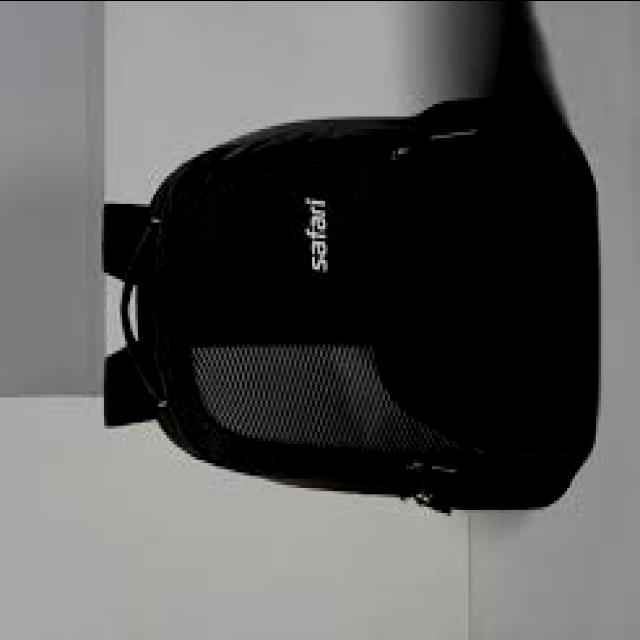backpack: (100, 95, 600, 517)
